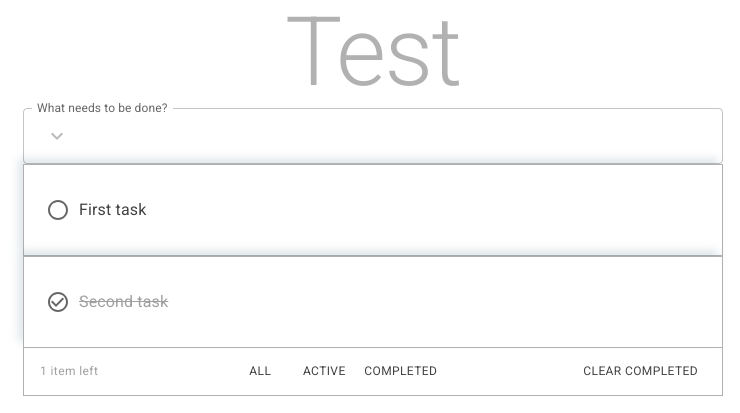
TodoList Component › should clear completed todos
Click the button with test id "todolist-footer-button-clear-completed" at x=641, y=372, box [575,356,706,388]
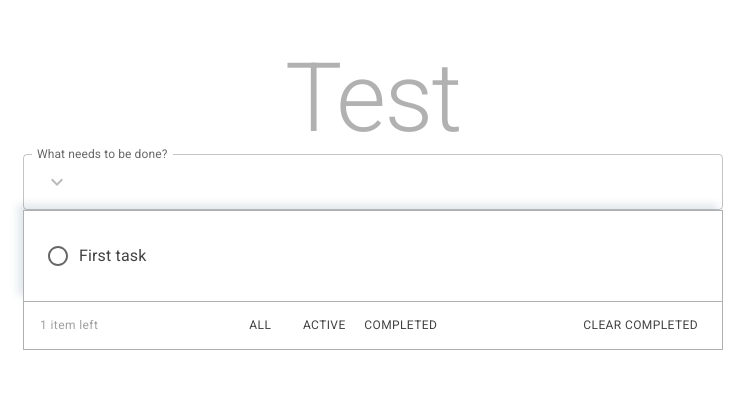
Check: the heading "First task" is shown, box [79,242,146,270]
Check: the heading "Second task" is gone
